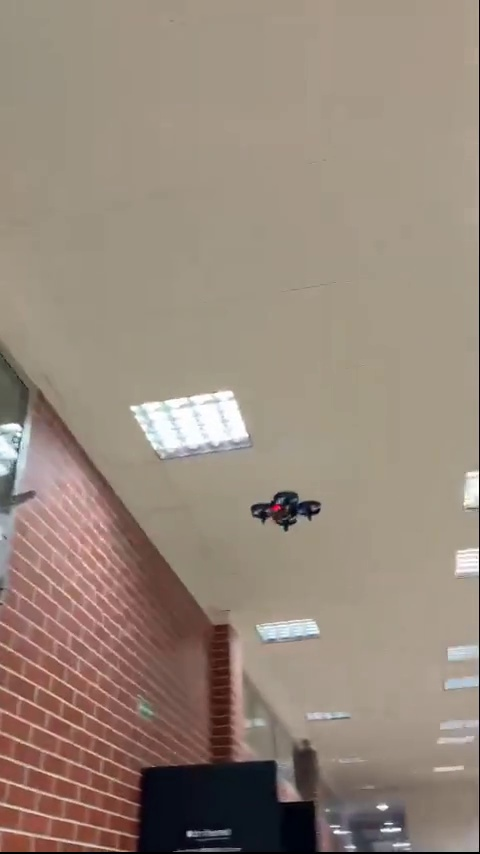drone: (246, 488, 319, 530)
